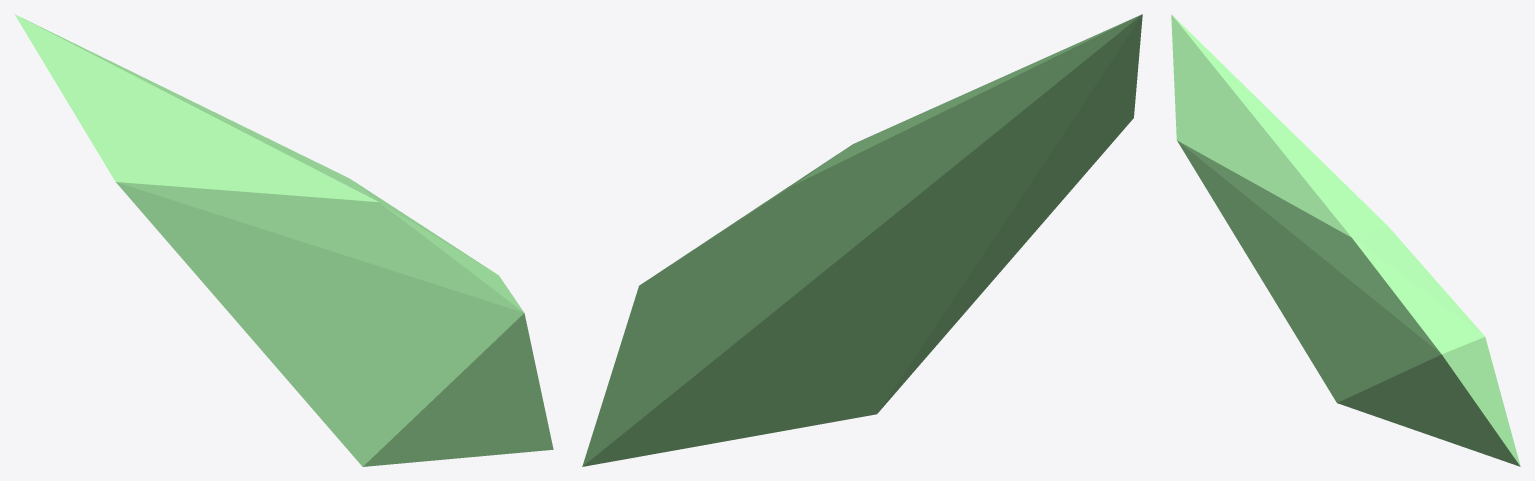
Rendered from UMIRobot_UMIRobot_link_2_convex_coll_5.dae.
3 views of the same model, side by side, from view 1: azimuth 30°, elevation 25°; view 2: azimuth 150°, elevation 25°; view 3: azimuth 330°, elevation 25° (orthographic). The views are drawn at different scales.
Visible parts, largest first — view 1: node; view 2: node; view 3: node.
Boxes of the visible parts, x1,y1,x2,y2 form: node: (14, 14, 553, 466); node: (582, 14, 1142, 466); node: (1171, 14, 1520, 466).
Size of the model in its own units: 0.0128 by 0.0128 by 0.0019.
